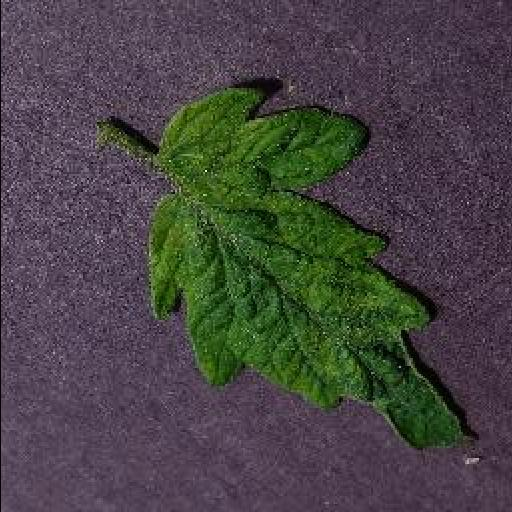disease_tomato: (146, 84, 476, 454)
